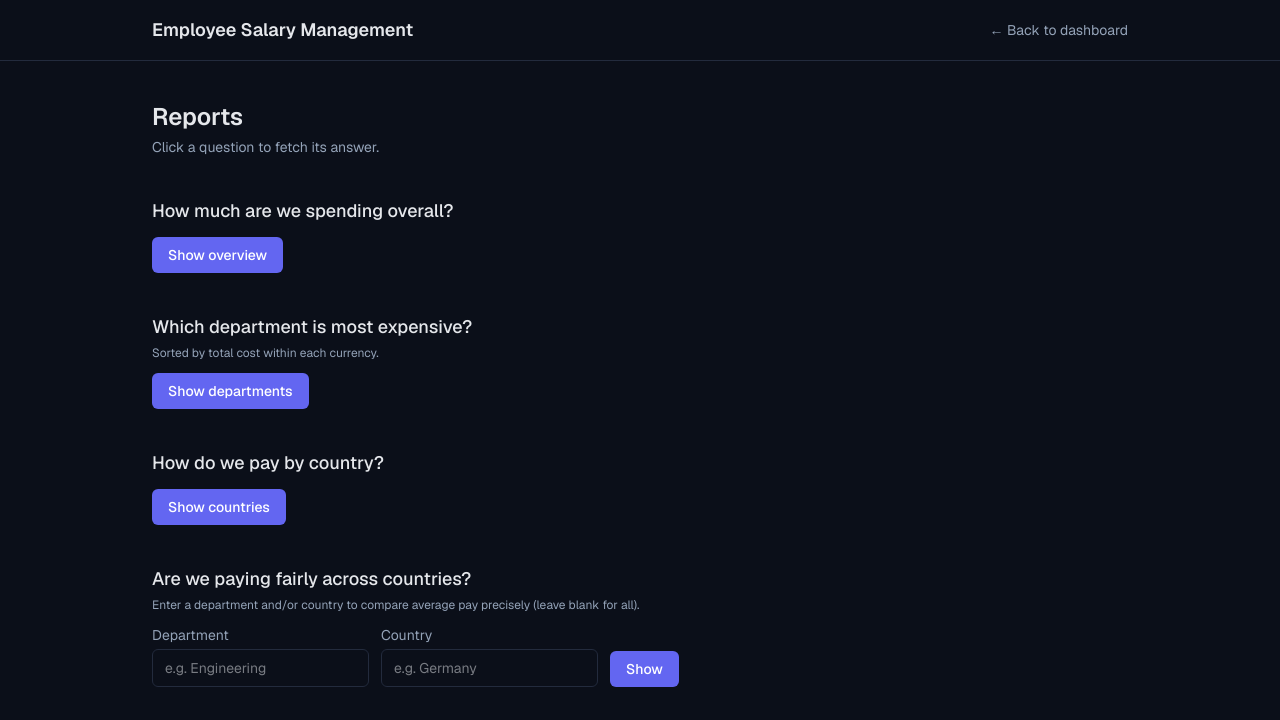
Scenario: ReportsPage › shows an error message if a report fails to load, without blocking other sections
The width and height of the screenshot is (1280, 720).
Click the button "Show overview" at [218, 255], box [152,237,283,273]
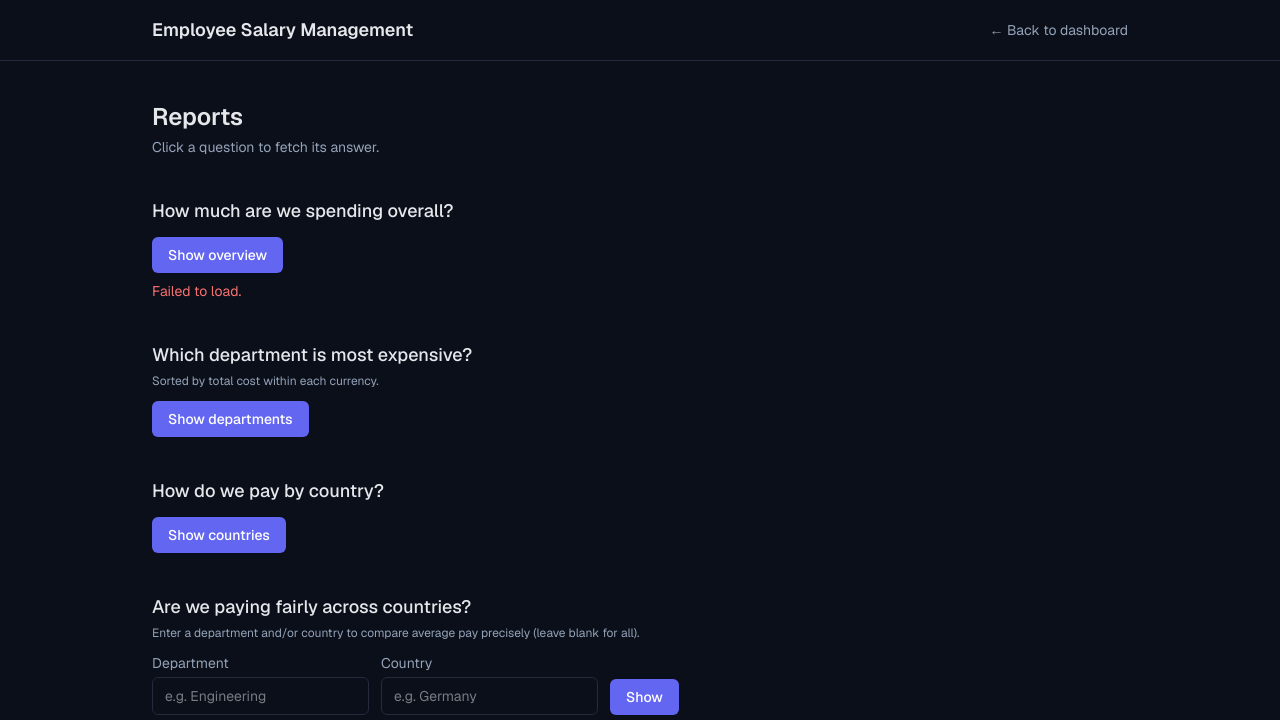
Now the message shows "Failed to load", box [152,282,241,300]
